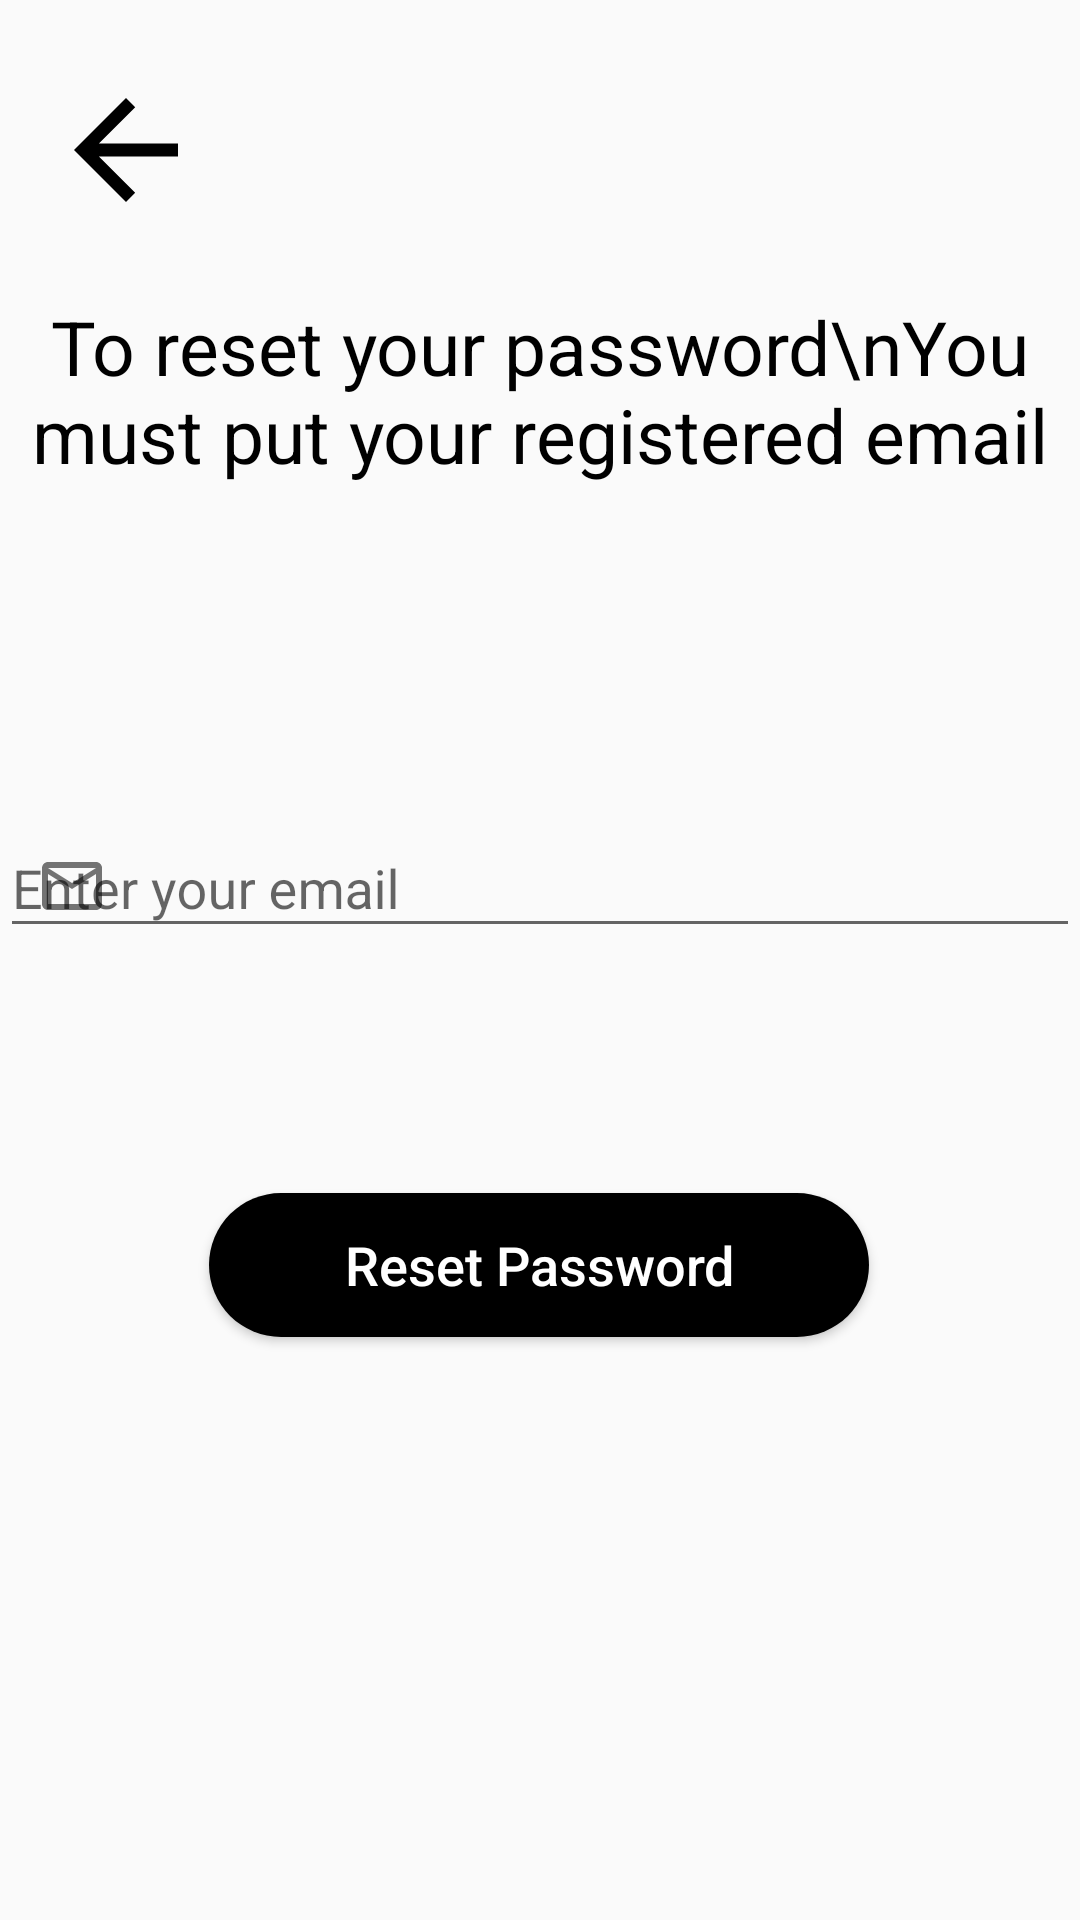

Point at icon controls on the screen. Image size 1080x1920, points as (x,y).
back arrow: (126,150)
